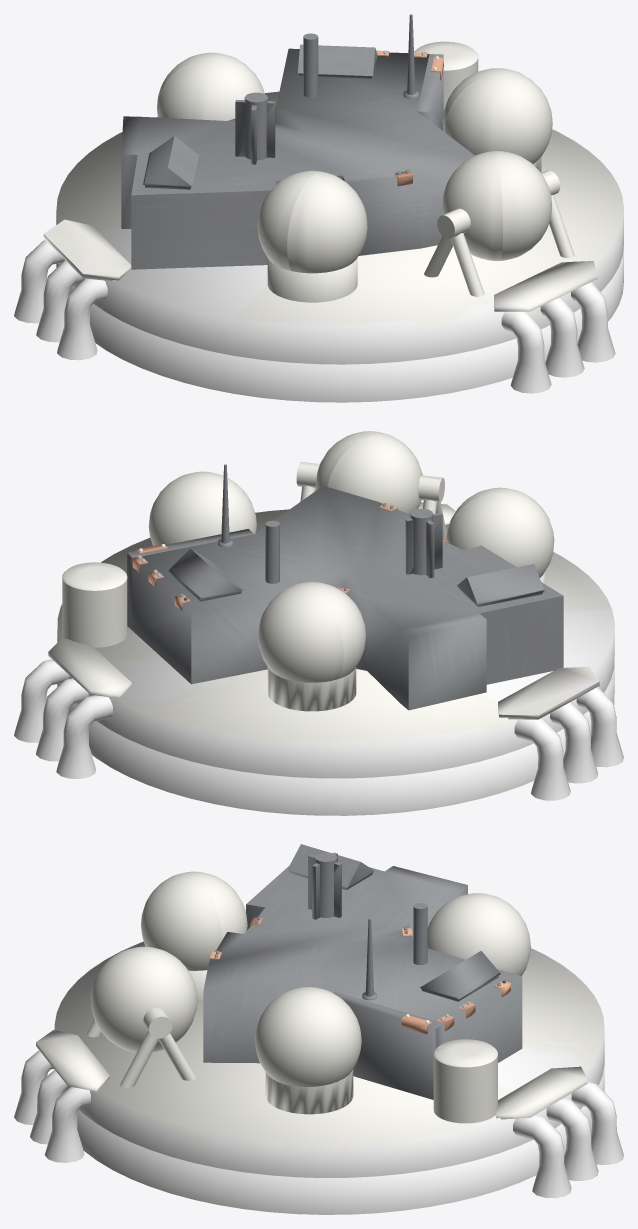
File: schiaparelli.glb
3 renders of one model, top to bottom at view 1: azimuth 30°, elevation 25°; view 2: azimuth 150°, elevation 25°; view 3: azimuth 270°, elevation 25°, orthographic. The views are drawn at different scales.
Parts seen in each view (by area): view 1: Cylinder22; view 2: Cylinder22; view 3: Cylinder22.
Part boxes in pixels (left/top/right/bottom): Cylinder22: left=14, top=14, right=623, bottom=402; Cylinder22: left=14, top=431, right=623, bottom=815; Cylinder22: left=14, top=844, right=623, bottom=1214.
Bounding box in the file's own units: 3.37 × 1.56 × 3.46.
Materials: 1 (1 with a texture image).
